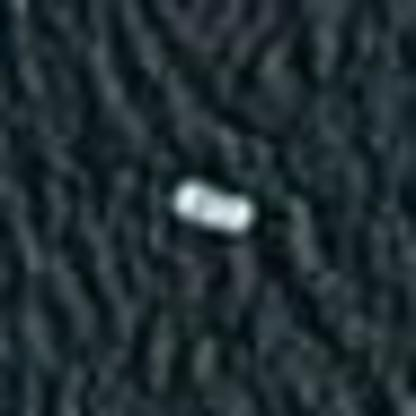ship: (159, 162, 277, 252)
